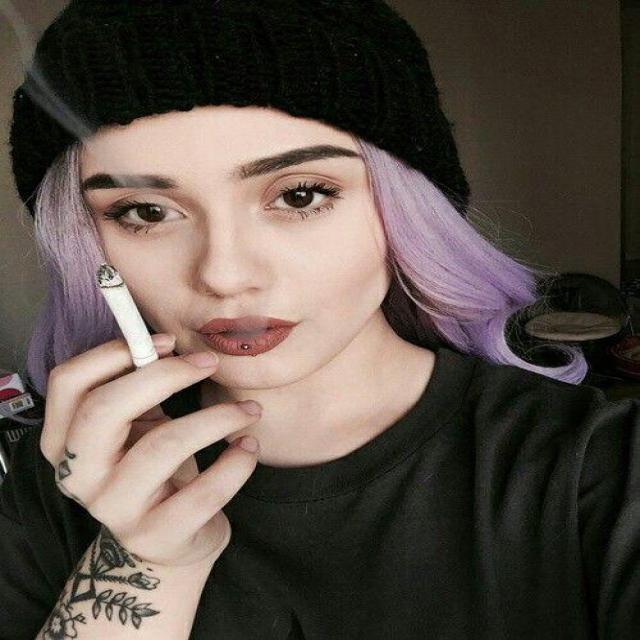cigarette: (76, 246, 197, 408)
